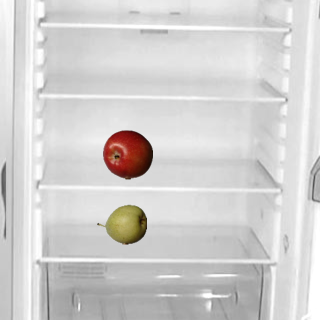Apple Braeburn: (102, 129, 152, 179)
Pear: (96, 199, 146, 249)
